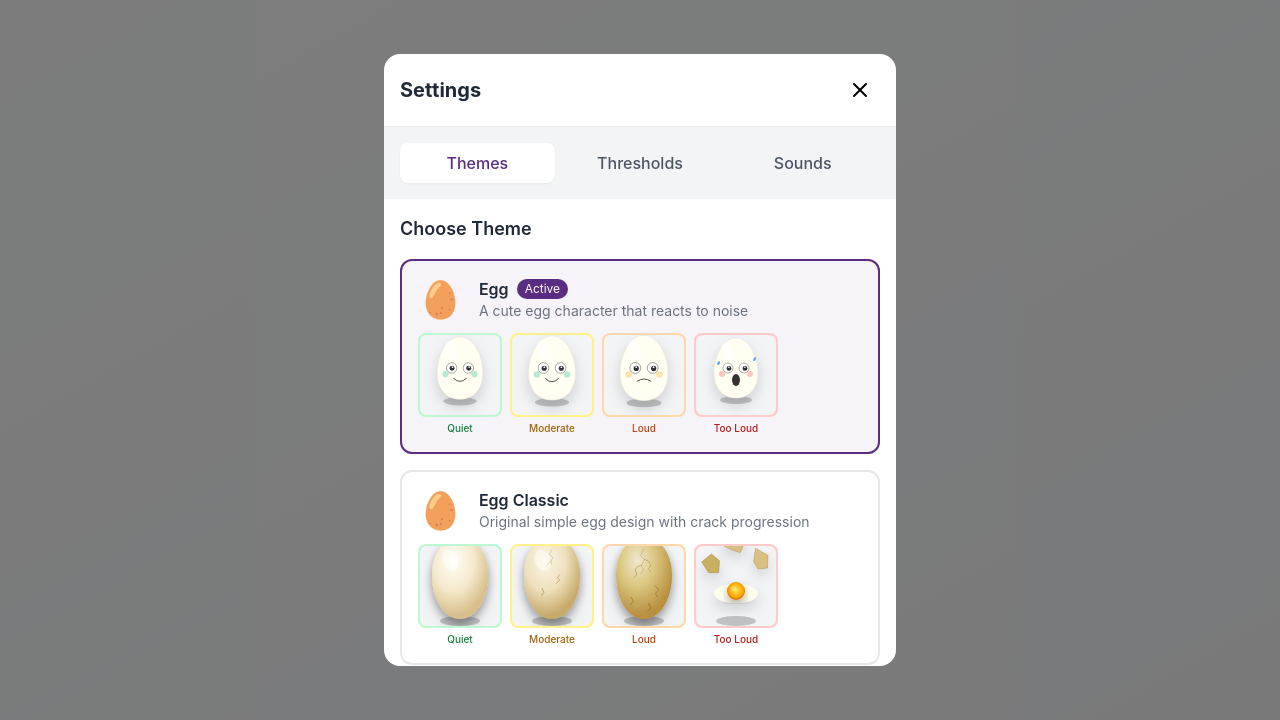
Test: setting the limit from the room › shows the level it would use, so the number is not a mystery
What coordinates should you click on to do the following:
click the button "Thresholds"
I would click on:
 (640, 163)
Its box is top-left (563, 143), bottom-right (717, 183).
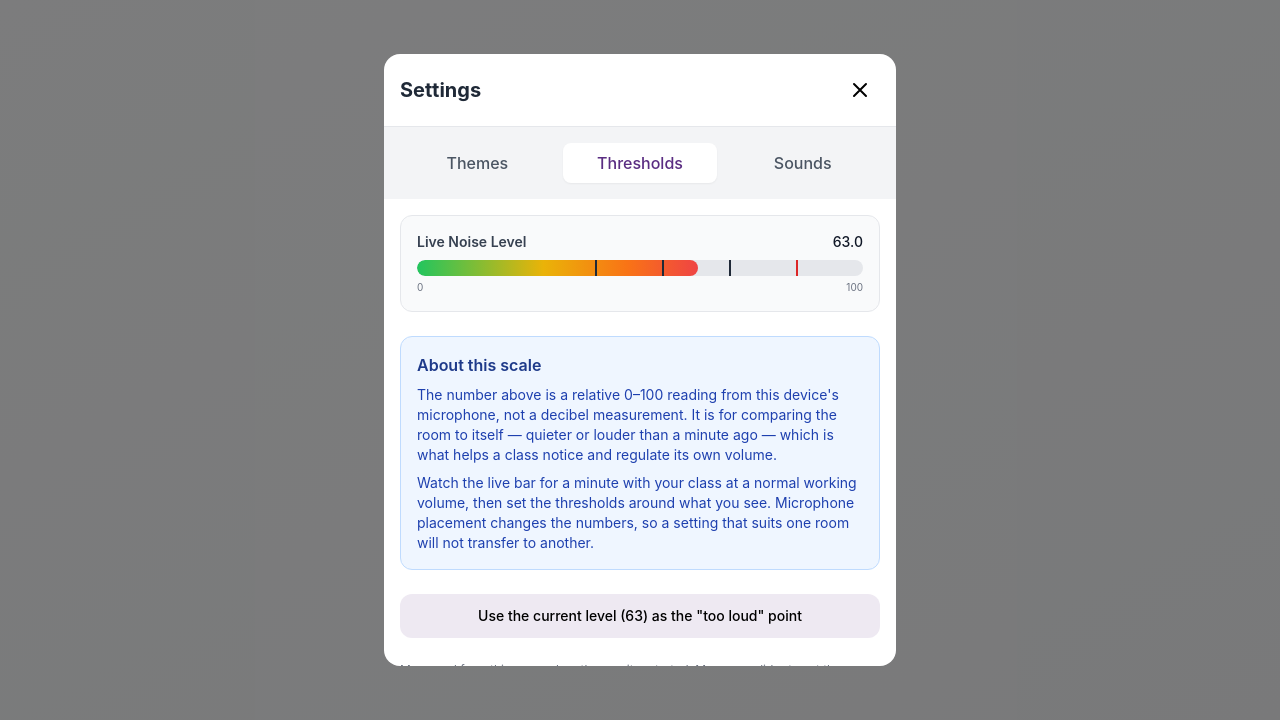
Expected: the button "Use the current level (63) as the \"too loud\" point" is shown, top-left (400, 594), bottom-right (880, 638)
